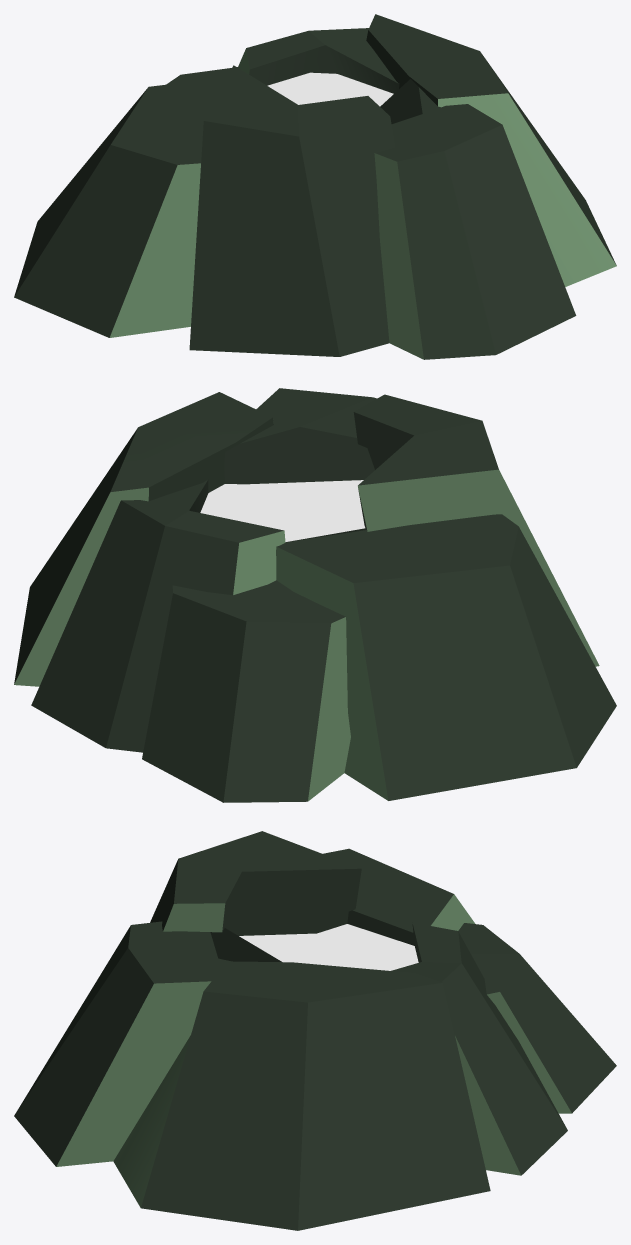
Rendered from SF_Env_Undead_LavaPit_01.glb.
3 views of the same model, one above another, from view 1: azimuth 30°, elevation 25°; view 2: azimuth 150°, elevation 25°; view 3: azimuth 270°, elevation 25° (orthographic). The views are drawn at different scales.
Parts seen in each view (by area): view 1: SF_Env_Undead_LavaPit_01; view 2: SF_Env_Undead_LavaPit_01; view 3: SF_Env_Undead_LavaPit_01.
Boxes of the visible parts, x1,y1,x2,y2 form: SF_Env_Undead_LavaPit_01: [14, 14, 616, 359]; SF_Env_Undead_LavaPit_01: [14, 388, 616, 802]; SF_Env_Undead_LavaPit_01: [14, 831, 616, 1230].
Size of the model in its own units: 0.0784 by 0.0271 by 0.0743.
2 materials, 1 textured.
